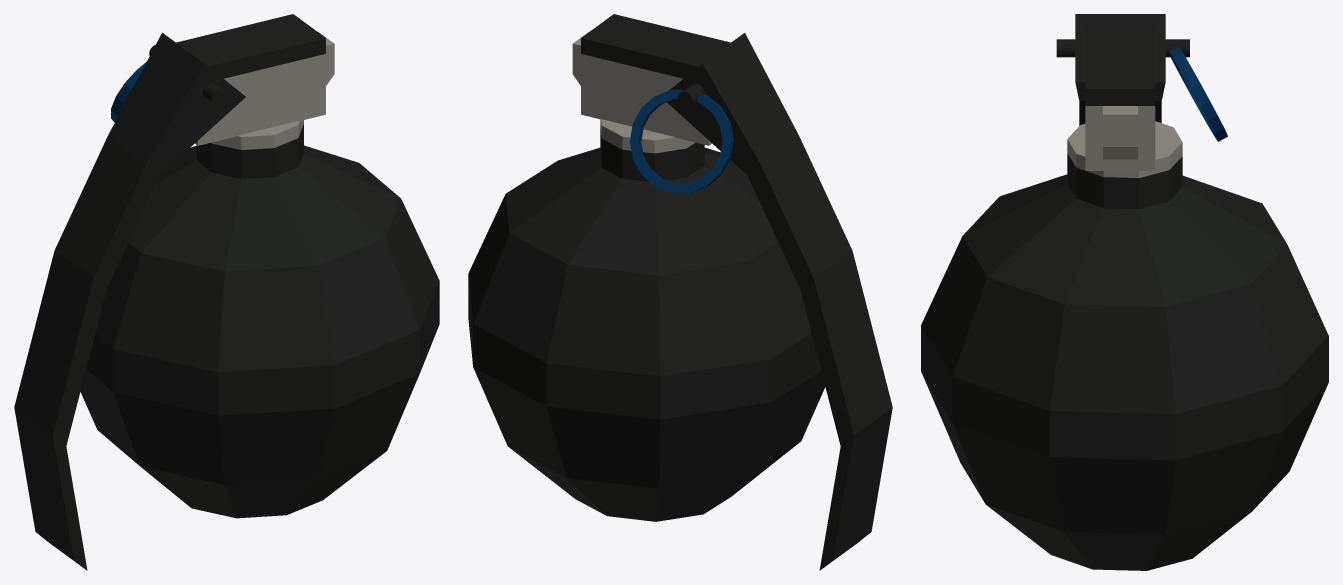
File: o2_Weapons_Grenade.fbx
3 renders of one model, left to right at view 1: azimuth 30°, elevation 25°; view 2: azimuth 150°, elevation 25°; view 3: azimuth 270°, elevation 25°, orthographic. The views are drawn at different scales.
Parts seen in each view (by area): view 1: o2_Weapons_Grenade, Clip, Top, PinRing; view 2: o2_Weapons_Grenade, Clip, Top, PinRing; view 3: o2_Weapons_Grenade, Top, Clip, PinRing, Pin.
Boxes of the visible parts, x1,y1,x2,y2 form: o2_Weapons_Grenade: [80, 120, 439, 518]; Clip: [14, 32, 245, 570]; Top: [176, 14, 334, 145]; PinRing: [111, 62, 146, 122]; o2_Weapons_Grenade: [468, 119, 825, 521]; Clip: [667, 33, 892, 570]; Top: [572, 14, 730, 145]; PinRing: [630, 89, 733, 192]; o2_Weapons_Grenade: [921, 121, 1328, 570]; Top: [1085, 27, 1155, 170]; Clip: [1075, 14, 1165, 125]; PinRing: [1169, 46, 1227, 141]; Pin: [1056, 39, 1189, 57].
Bounding box in the file's own units: 10.93 × 13.23 × 9.53.
